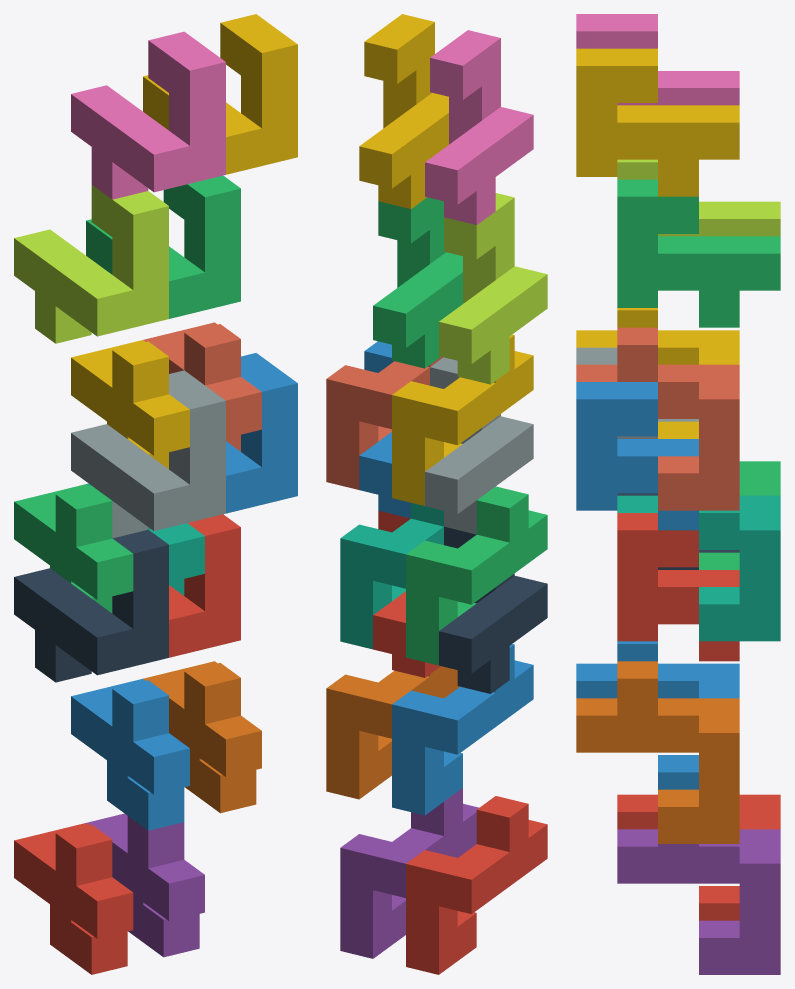
File: tiling.obj
3 views of the same model, side by side, from view 1: azimuth 30°, elevation 25°; view 2: azimuth 150°, elevation 25°; view 3: azimuth 270°, elevation 25° (orthographic). The views are drawn at different scales.
Parts seen in each view (by area): view 1: copy_2_domain_4, copy_2_domain_3, copy_2_domain_1, copy_2_domain_2, copy_1_domain_1, copy_1_domain_2, copy_2_domain_8, copy_1_domain_6, copy_2_domain_7, copy_1_domain_5, copy_1_domain_3, copy_1_domain_4 (+4 smaller); view 2: copy_1_domain_1, copy_2_domain_4, copy_1_domain_3, copy_2_domain_3, copy_2_domain_8, copy_1_domain_2, copy_1_domain_5, copy_2_domain_7, copy_1_domain_4, copy_1_domain_6, copy_2_domain_1, copy_2_domain_2 (+4 smaller); view 3: copy_1_domain_6, copy_2_domain_8, copy_2_domain_7, copy_1_domain_5, copy_1_domain_8, copy_2_domain_6, copy_1_domain_7, copy_2_domain_5, copy_1_domain_2, copy_2_domain_4, copy_1_domain_4, copy_1_domain_1 (+3 smaller).
Boxes of the visible parts, x1=… form: copy_2_domain_4: x1=71, y1=31, x2=225, y2=199; copy_2_domain_3: x1=14, y1=185, x2=168, y2=343; copy_2_domain_1: x1=14, y1=529, x2=168, y2=682; copy_2_domain_2: x1=71, y1=370, x2=225, y2=538; copy_1_domain_1: x1=14, y1=823, x2=133, y2=974; copy_1_domain_2: x1=71, y1=678, x2=189, y2=830; copy_2_domain_8: x1=143, y1=14, x2=297, y2=174; copy_1_domain_6: x1=143, y1=661, x2=261, y2=813; copy_2_domain_7: x1=86, y1=175, x2=240, y2=318; copy_1_domain_5: x1=86, y1=813, x2=204, y2=957; copy_1_domain_3: x1=14, y1=484, x2=133, y2=613; copy_1_domain_4: x1=71, y1=340, x2=189, y2=468; copy_1_domain_1: x1=406, y1=796, x2=547, y2=974; copy_2_domain_4: x1=425, y1=30, x2=533, y2=224; copy_1_domain_3: x1=406, y1=486, x2=547, y2=665; copy_2_domain_3: x1=439, y1=193, x2=547, y2=384; copy_2_domain_8: x1=359, y1=14, x2=448, y2=208; copy_1_domain_2: x1=392, y1=644, x2=533, y2=815; copy_1_domain_5: x1=340, y1=788, x2=478, y2=958; copy_2_domain_7: x1=373, y1=197, x2=462, y2=368; copy_1_domain_4: x1=392, y1=334, x2=533, y2=505; copy_1_domain_6: x1=326, y1=666, x2=459, y2=799; copy_2_domain_1: x1=439, y1=526, x2=547, y2=693; copy_2_domain_2: x1=425, y1=357, x2=533, y2=534; copy_1_domain_6: x1=576, y1=661, x2=739, y2=843; copy_2_domain_8: x1=576, y1=48, x2=739, y2=196; copy_2_domain_7: x1=617, y1=179, x2=780, y2=327; copy_1_domain_5: x1=617, y1=829, x2=780, y2=974; copy_1_domain_8: x1=576, y1=327, x2=739, y2=510; copy_2_domain_6: x1=576, y1=382, x2=698, y2=530; copy_1_domain_7: x1=617, y1=495, x2=780, y2=641; copy_2_domain_5: x1=617, y1=513, x2=739, y2=661; copy_1_domain_2: x1=576, y1=641, x2=739, y2=789; copy_2_domain_4: x1=576, y1=14, x2=739, y2=105; copy_1_domain_4: x1=576, y1=308, x2=739, y2=438; copy_1_domain_1: x1=617, y1=794, x2=780, y2=920.
Size of the model in its own units: 5 by 25 by 5.
